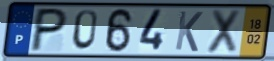0: (69, 9, 99, 53)
4: (138, 7, 168, 55)
6: (104, 7, 135, 55)
K: (173, 10, 205, 54)
P: (27, 6, 71, 54)
X: (204, 8, 243, 56)
